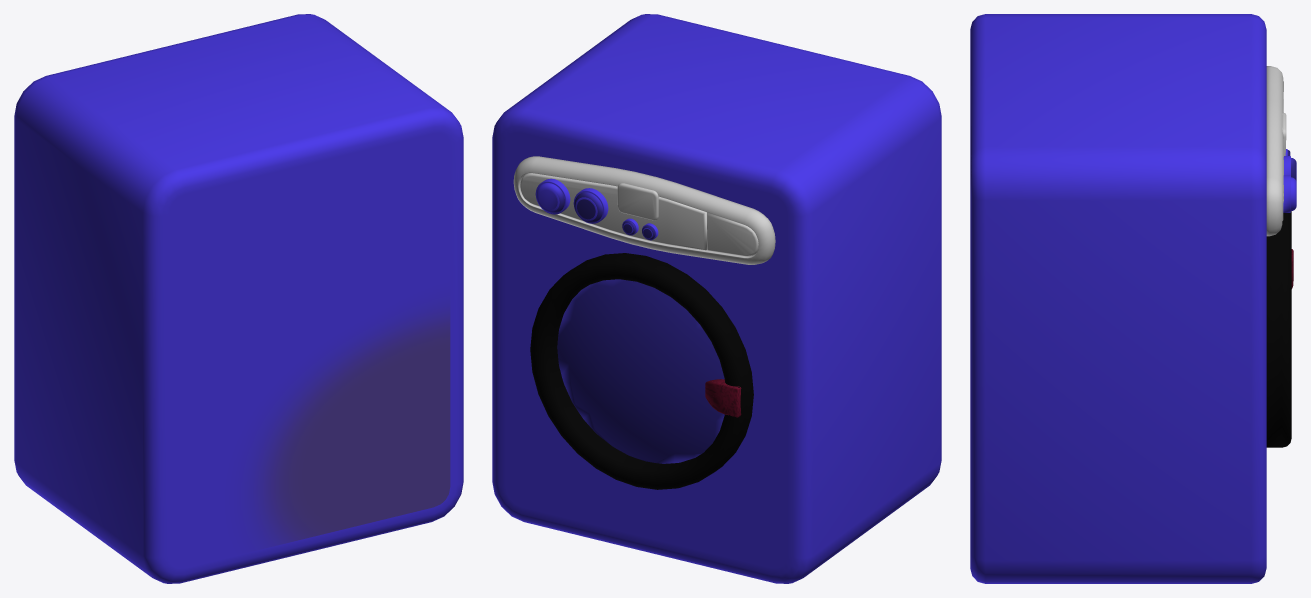
Rendered from Kir yuvadigan mashina.fbx.
The picture shows the model from 3 angles, left to right: view 1: azimuth 30°, elevation 25°; view 2: azimuth 150°, elevation 25°; view 3: azimuth 270°, elevation 25°; orthographic projection. The views are drawn at different scales.
Visible parts, largest first — view 1: Cube.003; view 2: Cube.003, Cube.004, Cube.005, Cube.007, Circle.002, Plane.010, Cube.006; view 3: Cube.003, Cube.005, Cube.007, Circle.002.
Boxes of the visible parts, x1,y1,x2,y2 form: Cube.003: (14,14,463,583); Cube.003: (492,14,941,583); Cube.004: (557,279,724,463); Cube.005: (530,253,753,489); Cube.007: (513,156,775,264); Circle.002: (535,178,658,240); Plane.010: (617,183,658,220); Cube.006: (705,379,741,417); Cube.003: (970,14,1266,583); Cube.005: (1266,211,1291,447); Cube.007: (1266,66,1283,236); Circle.002: (1283,149,1296,212).
Bounding box in the file's own units: 162 × 200 × 137.
